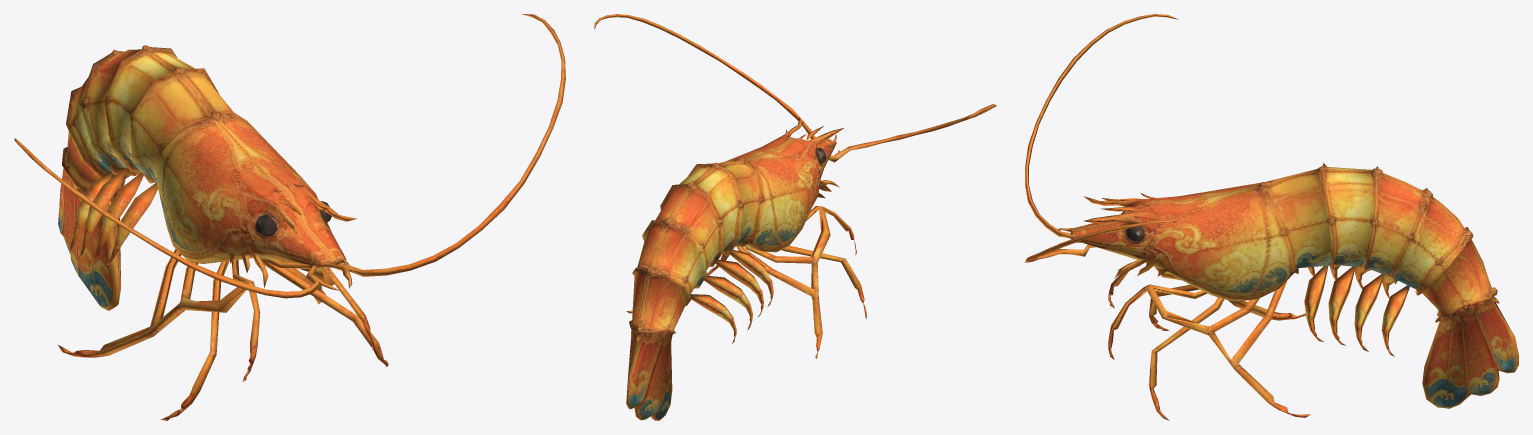
Rendered from 赤焰虾灯.glb.
3 renders of one model, left to right at view 1: azimuth 30°, elevation 25°; view 2: azimuth 150°, elevation 25°; view 3: azimuth 270°, elevation 25°, orthographic. The views are drawn at different scales.
Parts seen in each view (by area): view 1: tripo_node_1847901e-42d4-48e2-bb49-d0e1568ac6a3; view 2: tripo_node_1847901e-42d4-48e2-bb49-d0e1568ac6a3; view 3: tripo_node_1847901e-42d4-48e2-bb49-d0e1568ac6a3.
Part boxes in pixels (left/top/right/bottom): tripo_node_1847901e-42d4-48e2-bb49-d0e1568ac6a3: left=14, top=14, right=565, bottom=420; tripo_node_1847901e-42d4-48e2-bb49-d0e1568ac6a3: left=594, top=14, right=996, bottom=420; tripo_node_1847901e-42d4-48e2-bb49-d0e1568ac6a3: left=1025, top=14, right=1518, bottom=420.
Bounding box in the file's own units: 0.998 × 0.6504 × 0.998.
Materials: 1 (1 with a texture image).
